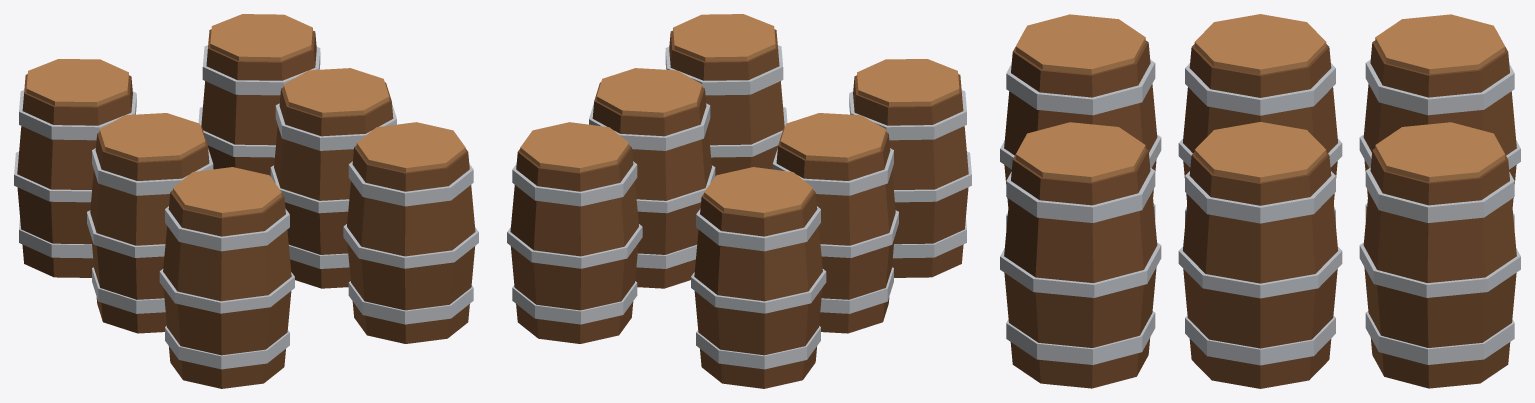
File: Load_Barrels.glb
The picture shows the model from 3 angles, left to right: view 1: azimuth 30°, elevation 25°; view 2: azimuth 150°, elevation 25°; view 3: azimuth 270°, elevation 25°; orthographic projection. The views are drawn at different scales.
Parts seen in each view (by area): view 1: Load_Barrels_Mesh; view 2: Load_Barrels_Mesh; view 3: Load_Barrels_Mesh.
Boxes of the visible parts, x1,y1,x2,y2 form: Load_Barrels_Mesh: (14,14,478,388); Load_Barrels_Mesh: (507,14,971,388); Load_Barrels_Mesh: (1000,14,1520,388).
Size of the model in its own units: 1.44 by 0.8 by 1.8.
Materials: 1 (1 with a texture image).
